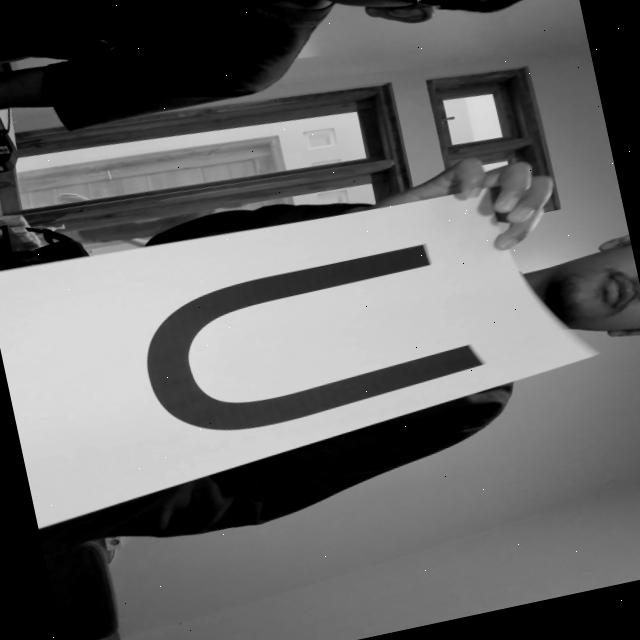u: (109, 215, 512, 469)
